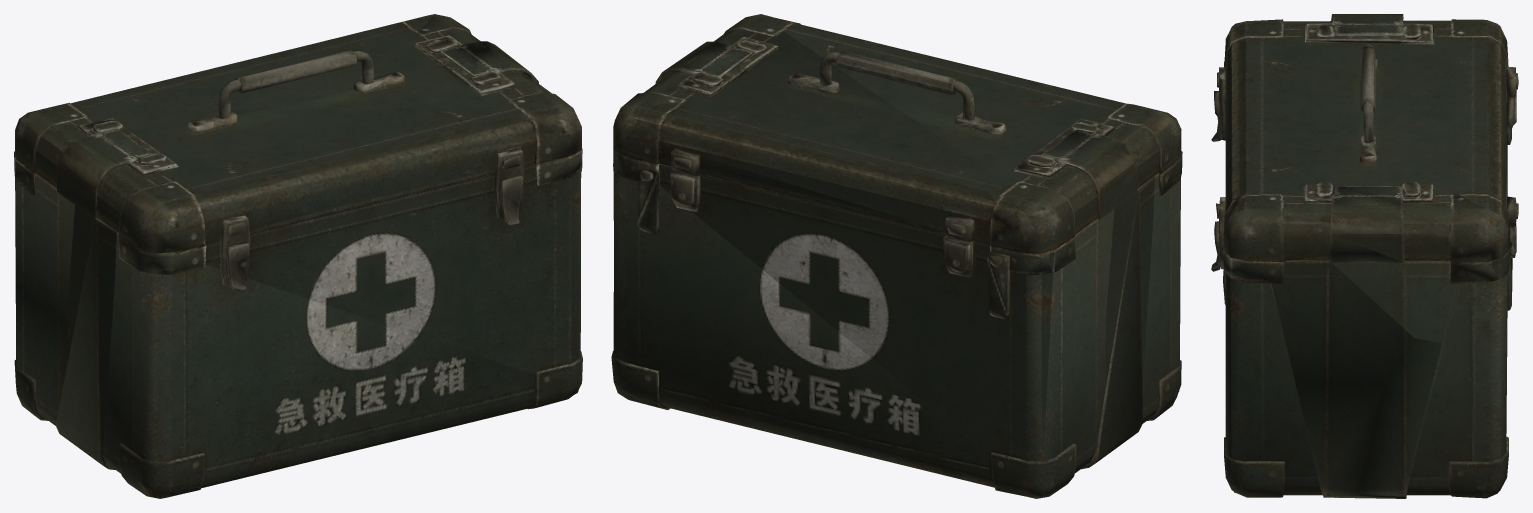
File: medicine‑box.fbx
3 renders of one model, left to right at view 1: azimuth 30°, elevation 25°; view 2: azimuth 150°, elevation 25°; view 3: azimuth 270°, elevation 25°, orthographic. The views are drawn at different scales.
Visible parts, largest first — view 1: mesh_node; view 2: mesh_node; view 3: mesh_node.
Boxes of the visible parts, <box> form: mesh_node: <box>14,14,582,498</box>; mesh_node: <box>611,14,1182,498</box>; mesh_node: <box>1211,14,1518,498</box>.
Size of the model in its own units: 100 by 73.44 by 61.91.
1 material, 1 textured.
